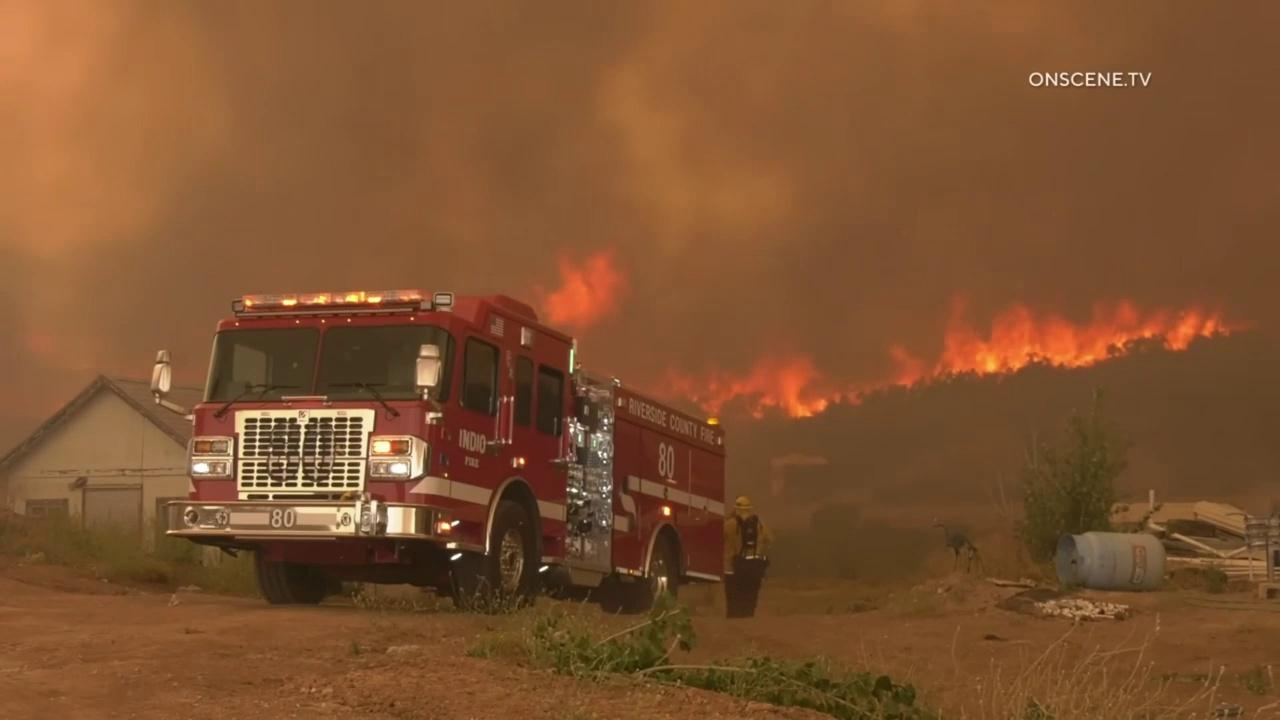fire: (639, 290, 1261, 420), (532, 237, 626, 329)
smoke: (0, 0, 1280, 378)
